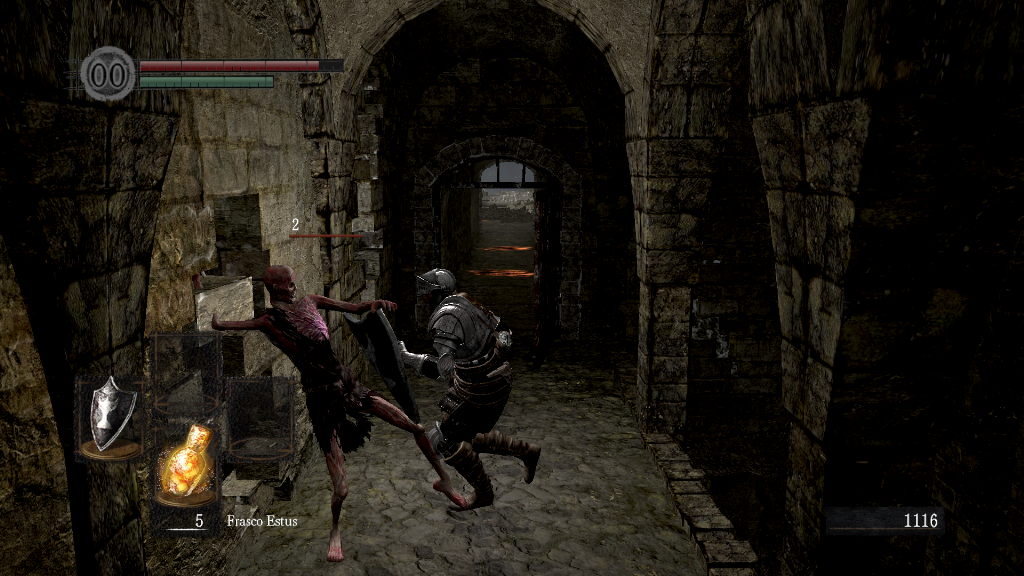health: (138, 58, 343, 71)
hollow: (191, 258, 466, 557)
humanity: (80, 45, 136, 102)
player: (344, 268, 545, 511)
souls: (825, 506, 945, 536)
stamina: (138, 74, 274, 88)
